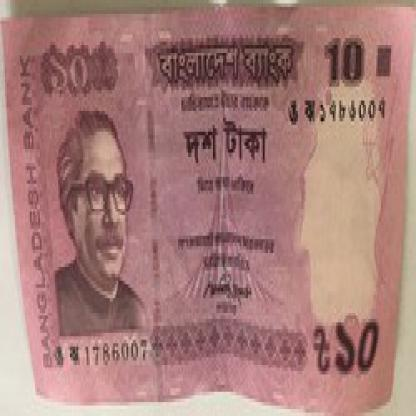Ten Taka: (330, 302, 390, 392), (38, 38, 112, 101), (321, 31, 370, 90)
